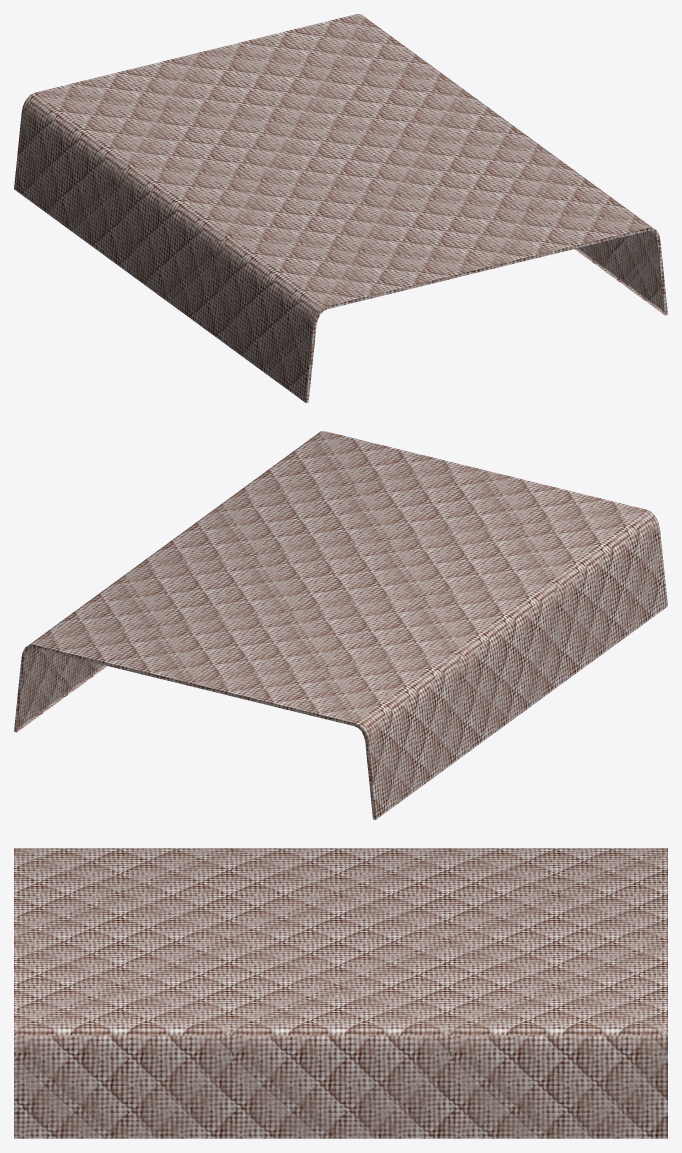
The model's file is Blanket_A.fbx.
3 views of the same model, one above another, from view 1: azimuth 30°, elevation 25°; view 2: azimuth 150°, elevation 25°; view 3: azimuth 270°, elevation 25° (orthographic). The views are drawn at different scales.
Visible parts, largest first — view 1: Blanket; view 2: Blanket; view 3: Blanket.
Part boxes in pixels (x1,y1,x2,y2): Blanket: [14, 14, 667, 402]; Blanket: [14, 431, 667, 819]; Blanket: [14, 848, 667, 1138].
Size of the model in its own units: 310 by 74.94 by 432.
